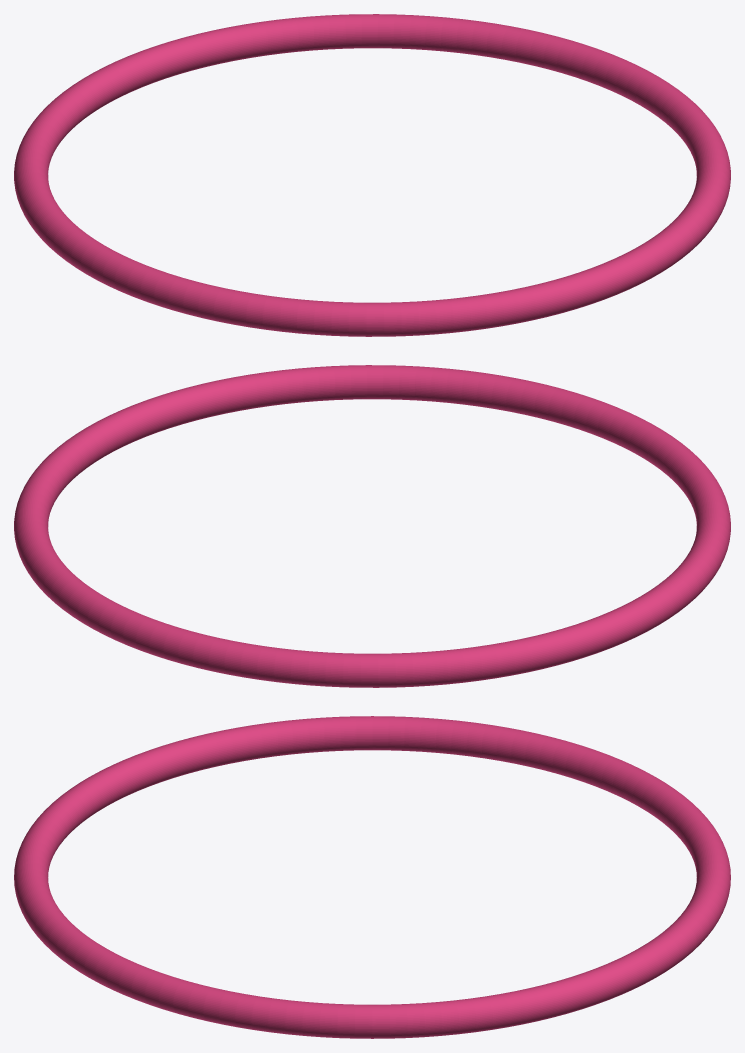
File: Hula.fbx
The picture shows the model from 3 angles, top to bottom: view 1: azimuth 30°, elevation 25°; view 2: azimuth 150°, elevation 25°; view 3: azimuth 270°, elevation 25°; orthographic projection.
Visible parts, largest first — view 1: Torus.001; view 2: Torus.001; view 3: Torus.001.
Boxes of the visible parts, left/top/right/bottom form: Torus.001: left=14, top=14, right=730, bottom=336; Torus.001: left=14, top=365, right=730, bottom=687; Torus.001: left=14, top=716, right=730, bottom=1038.
Bounding box in the file's own units: 210 × 10 × 210.
